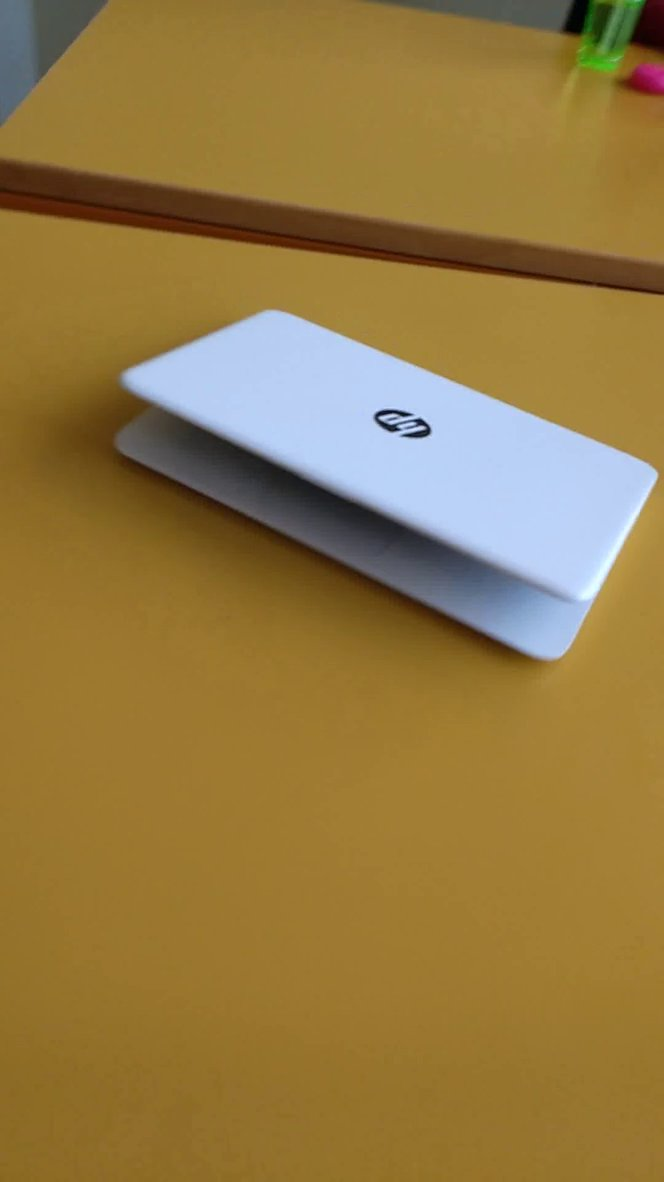laptop: (101, 290, 664, 669)
